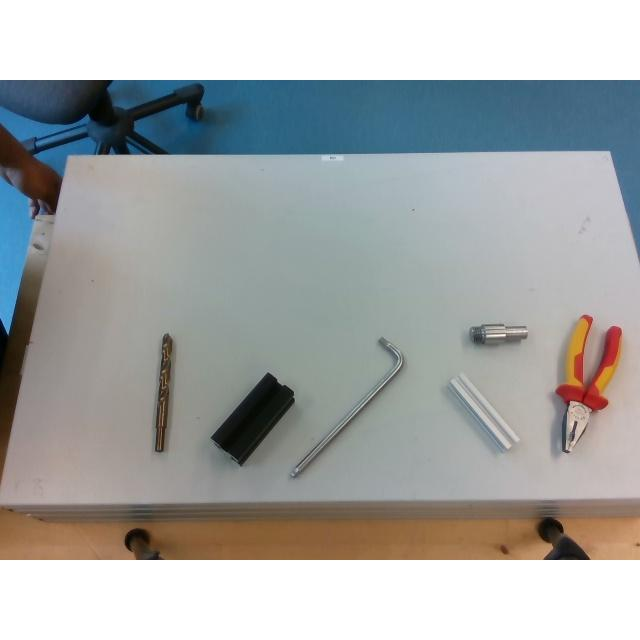AllenKey: (288, 336, 404, 478)
Axis2: (469, 324, 527, 344)
Drill: (154, 332, 172, 452)
F20_20_G: (449, 373, 518, 451)
S40_40_B: (210, 372, 294, 464)
